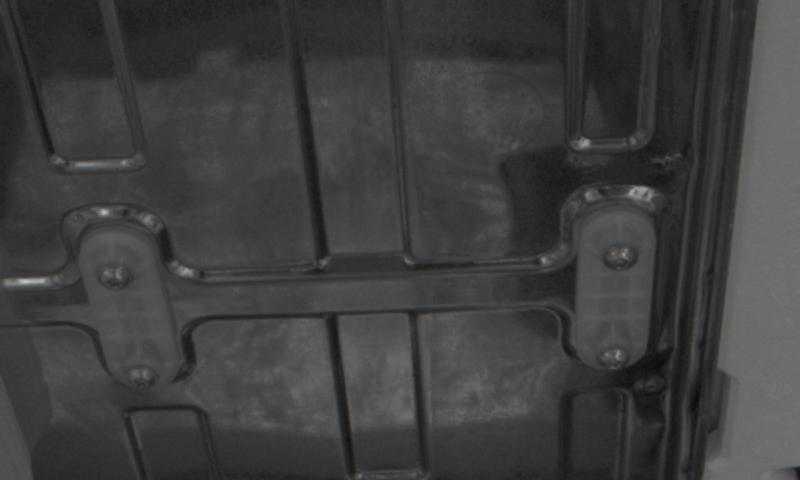vida-ok: (597, 229, 641, 274), (95, 253, 135, 298), (120, 355, 162, 395), (594, 338, 634, 377)
